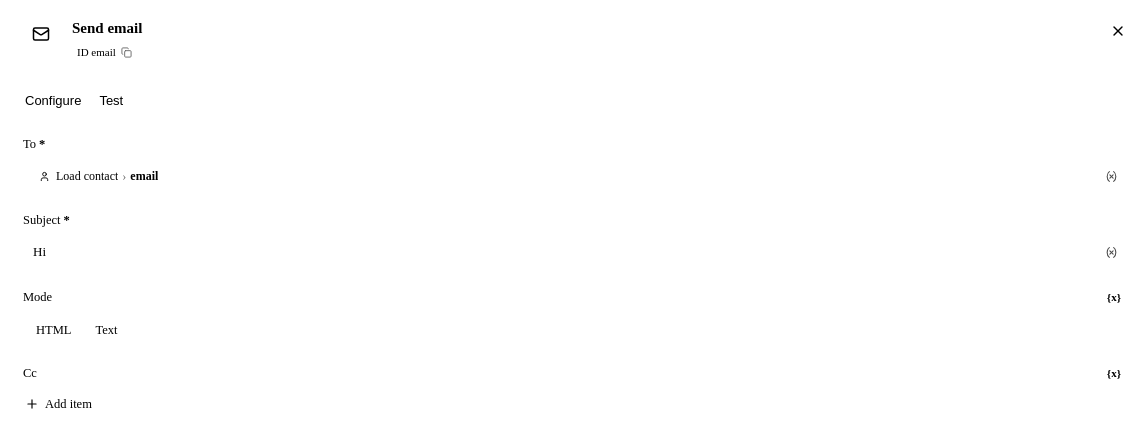
Scenario: ConfigPanel for a step › renames the step in place; Esc cancels the rename without closing
Click the button with aria-label "Rename step".
click(107, 28)  # box [65,16,149,40]
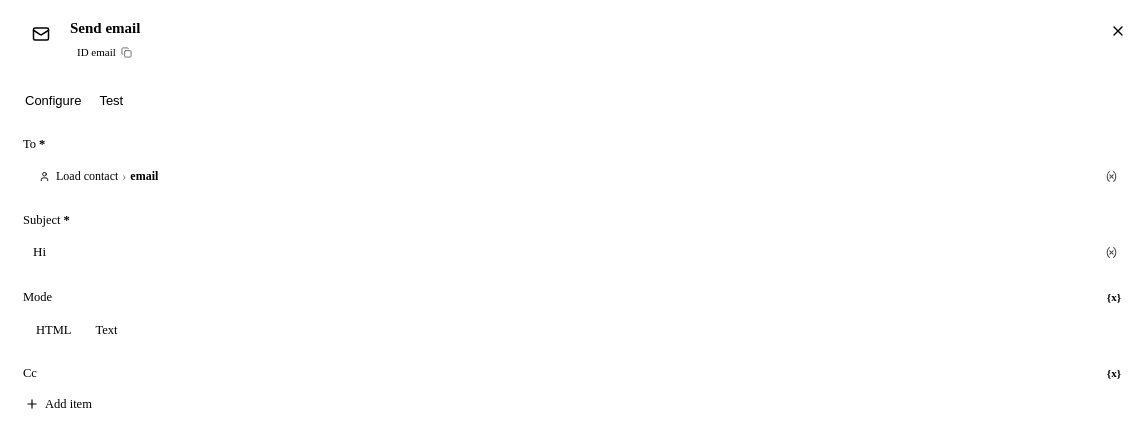
Type "Welcome email" into the field named "Rename step".
click(578, 28); type("Welcome email")  # box [64,16,1091,40]
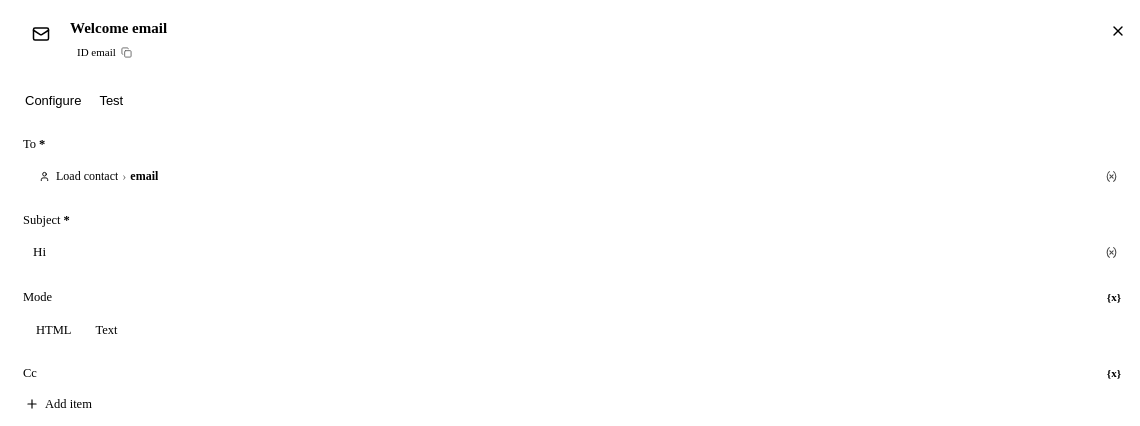
Press Enter in the field named "Rename step", box [64,16,1091,40]
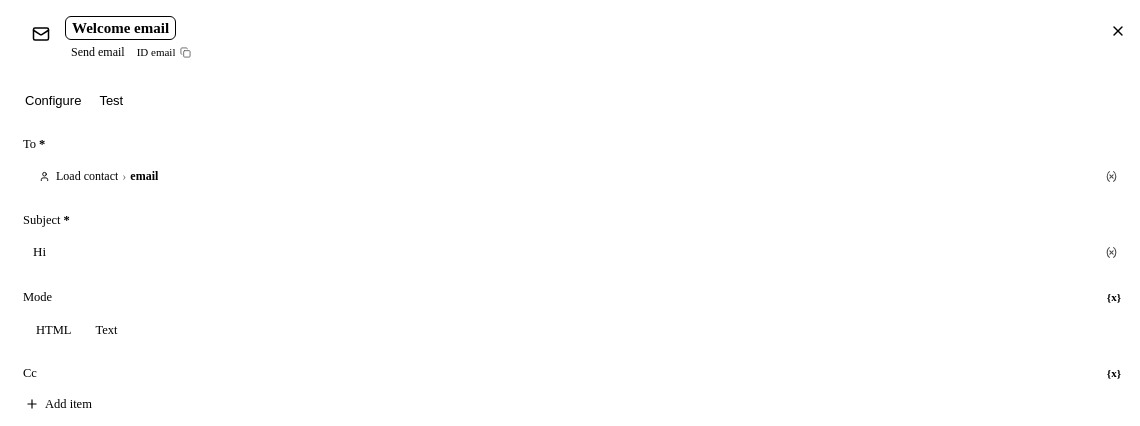
Expected: the button "Welcome email" is shown
Expected: the heading "Welcome email" is shown
Click the button with aria-label "Rename step".
click(120, 28)  # box [65,16,176,40]
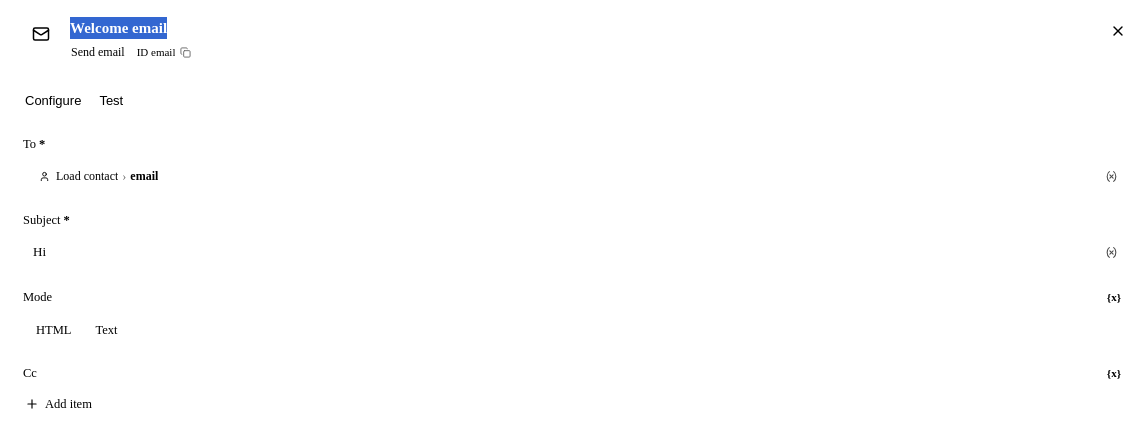
Replace the text in the field named "Rename step" with "Nope" at (578, 28), box [64,16,1091,40]
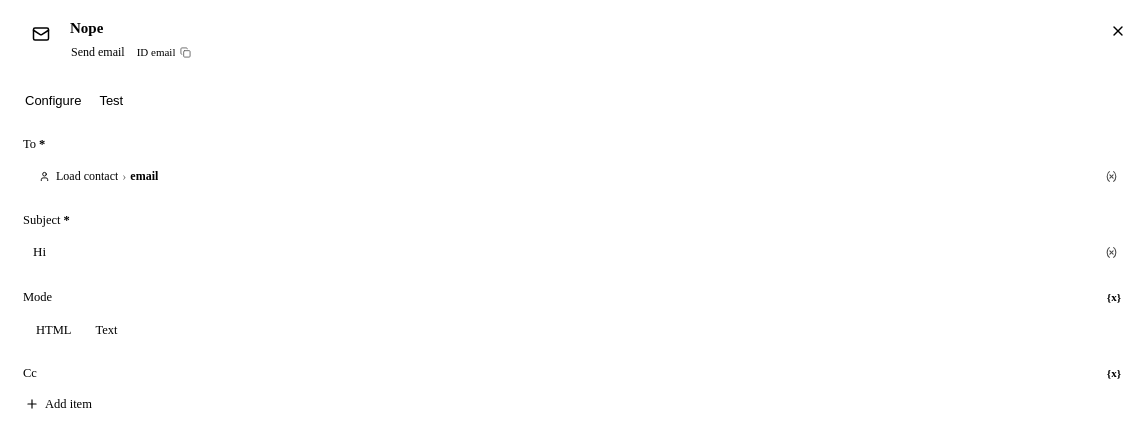
Press Escape in the field named "Rename step", box [64,16,1091,40]
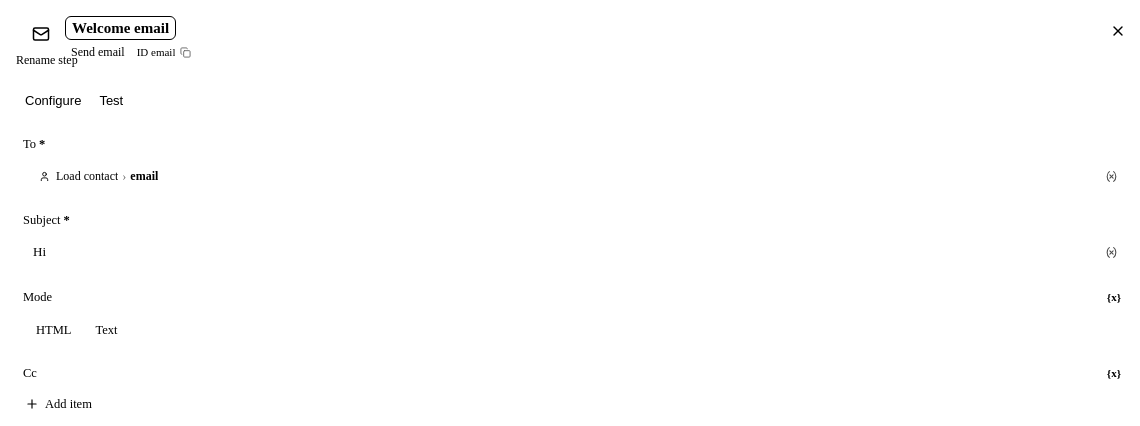
Expected: the text "email" is shown, [130,166,158,186]
Expected: the button "Welcome email" is shown, [65,16,176,40]
